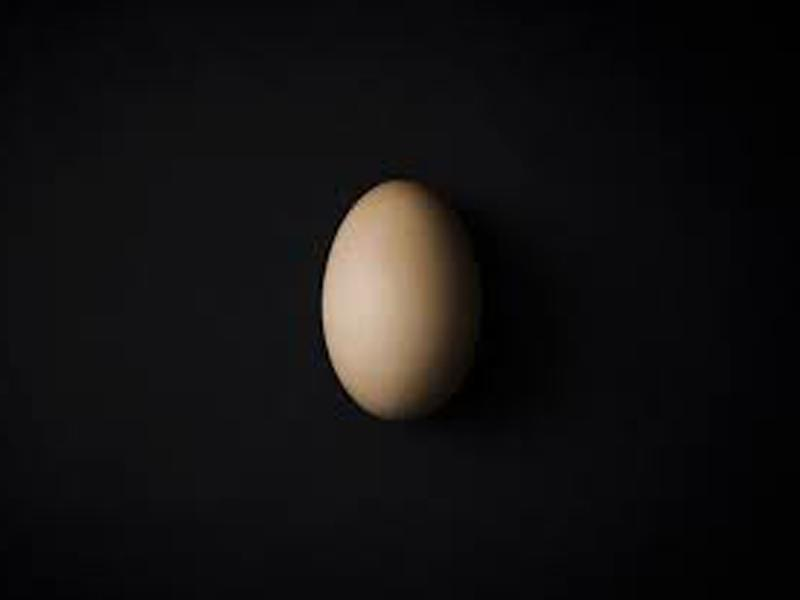Eggs: (322, 174, 476, 423)
